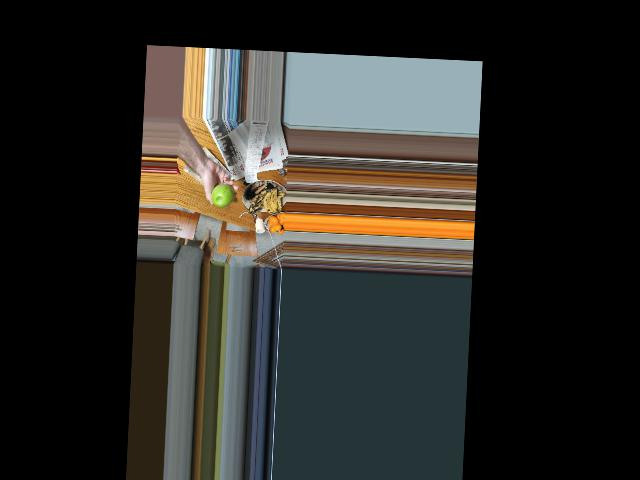apple: (210, 182, 236, 208)
